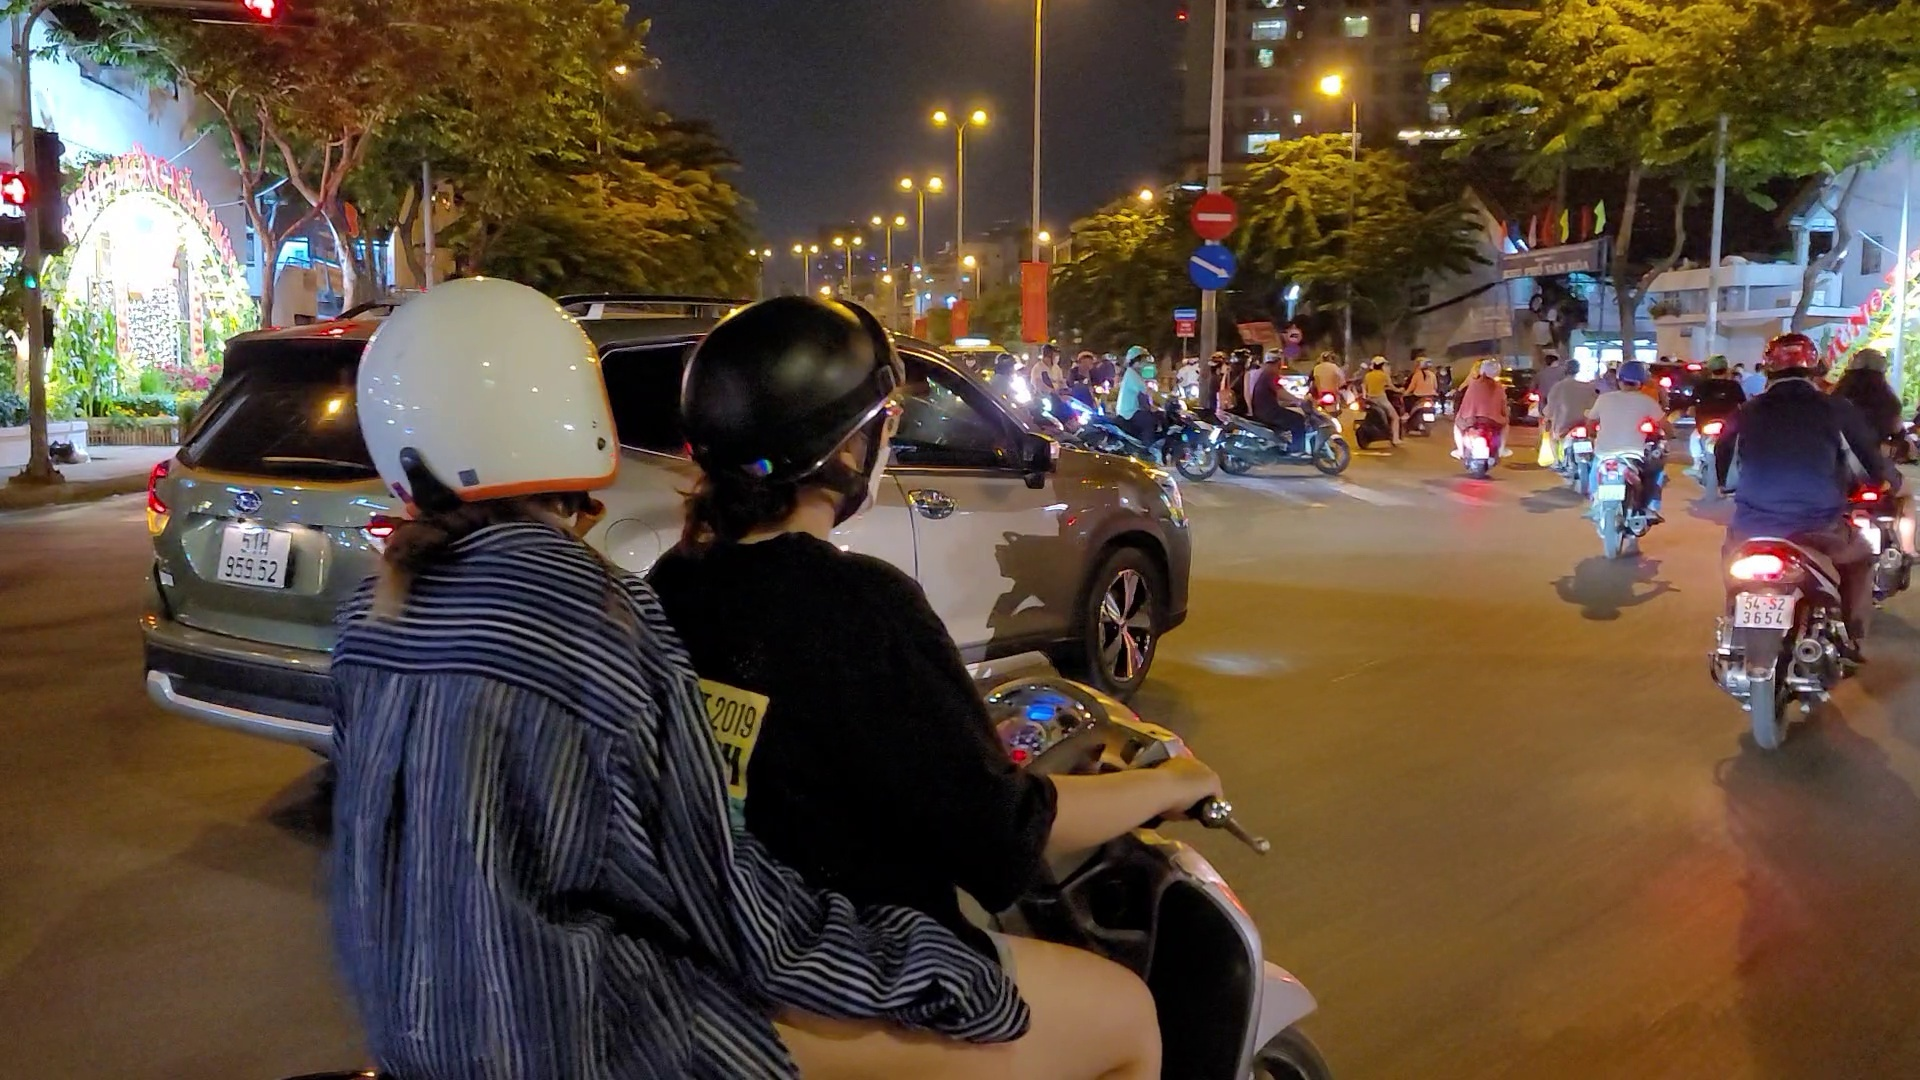Cam di nguoc chieu: (1191, 189, 1237, 240)
Huong di phai re phai: (1184, 243, 1234, 291)
